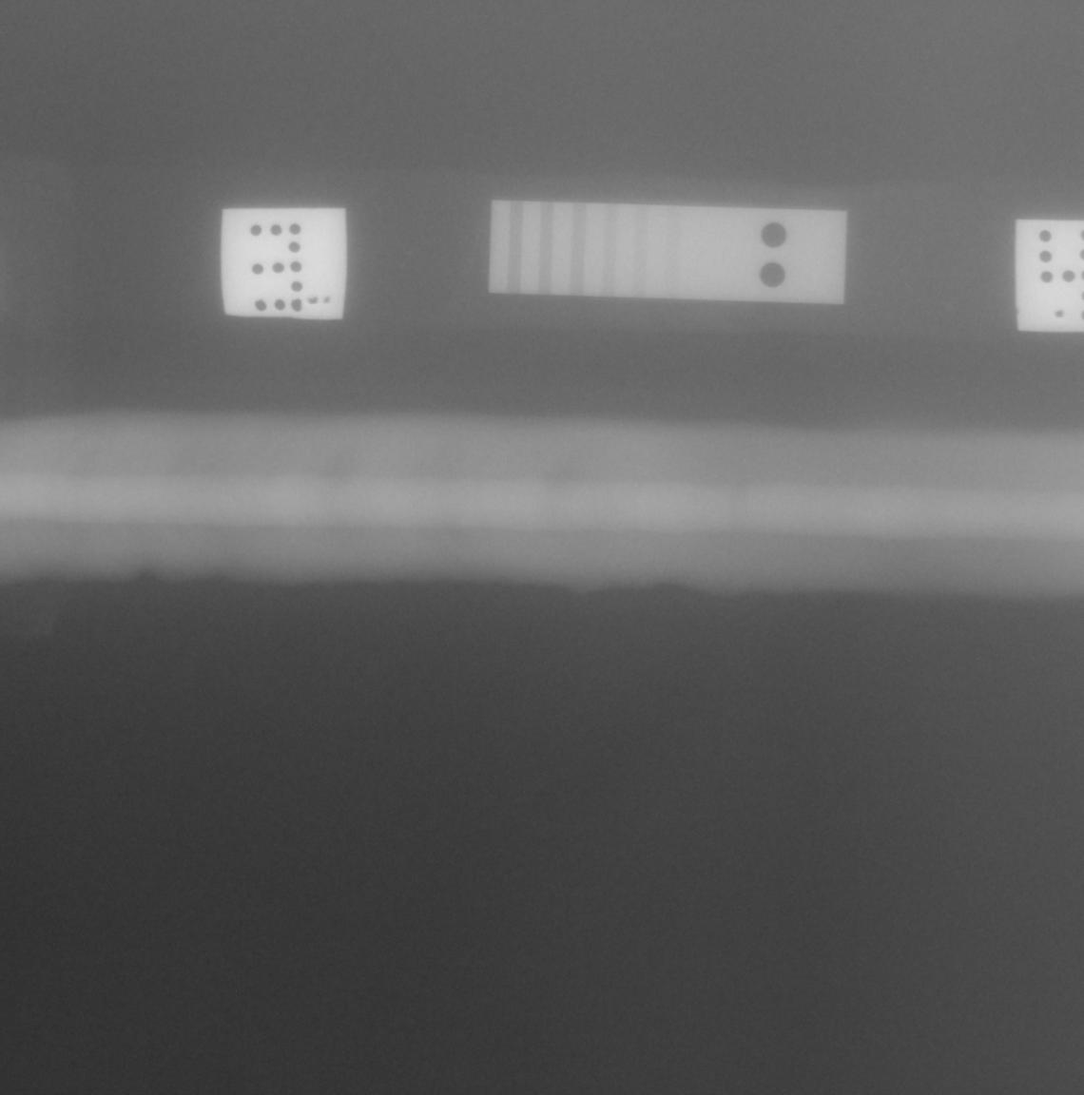Pore/Porosity: (618, 522, 623, 525)
Reference Standard 2: (489, 200, 847, 305)
